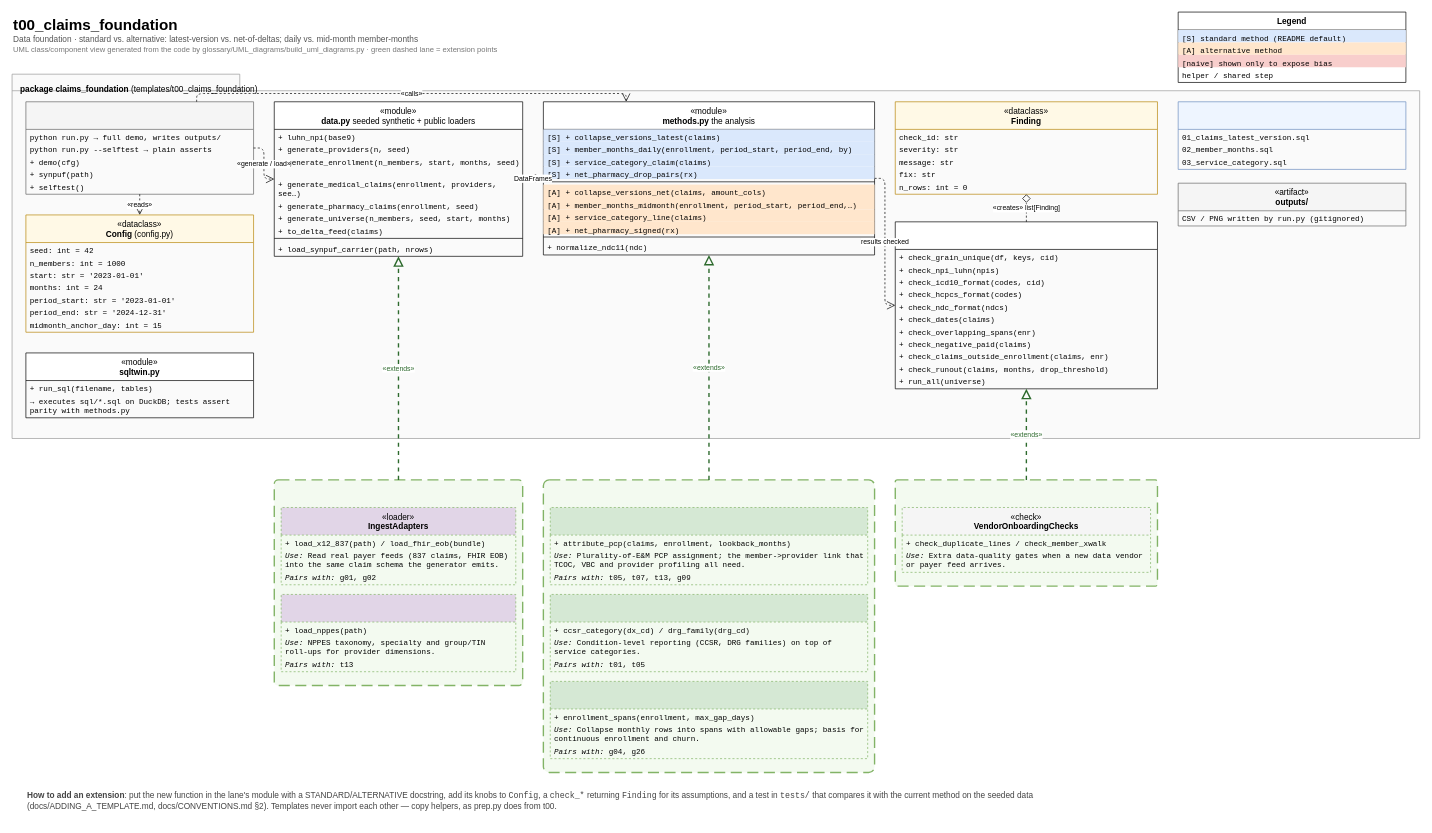
Some shapes in this 1432 by 833 pixel diagram are drawn without their labels. The box of each missing label's shape, as (x1, y1, x2, y2) in pixels:
EXTENSION POINT · extends checks.py: (894, 479, 1158, 586)
EXTENSION POINT · extends data.py (new loaders): (273, 479, 523, 686)
EXTENSION POINT · extends methods.py (new models): (542, 479, 875, 773)
«entrypoint» run.py: (25, 101, 254, 194)
«folder» sql/ SQL twin (DuckDB): (1177, 101, 1406, 169)
«loader» ProviderDirectory: (280, 594, 516, 672)
«model» ClinicalGrouper: (550, 594, 868, 672)
«model» EnrollmentSpans: (550, 681, 868, 759)
«model» MemberAttribution: (550, 507, 868, 585)
«module» checks.py data-quality & assumption checks: (895, 221, 1157, 389)
